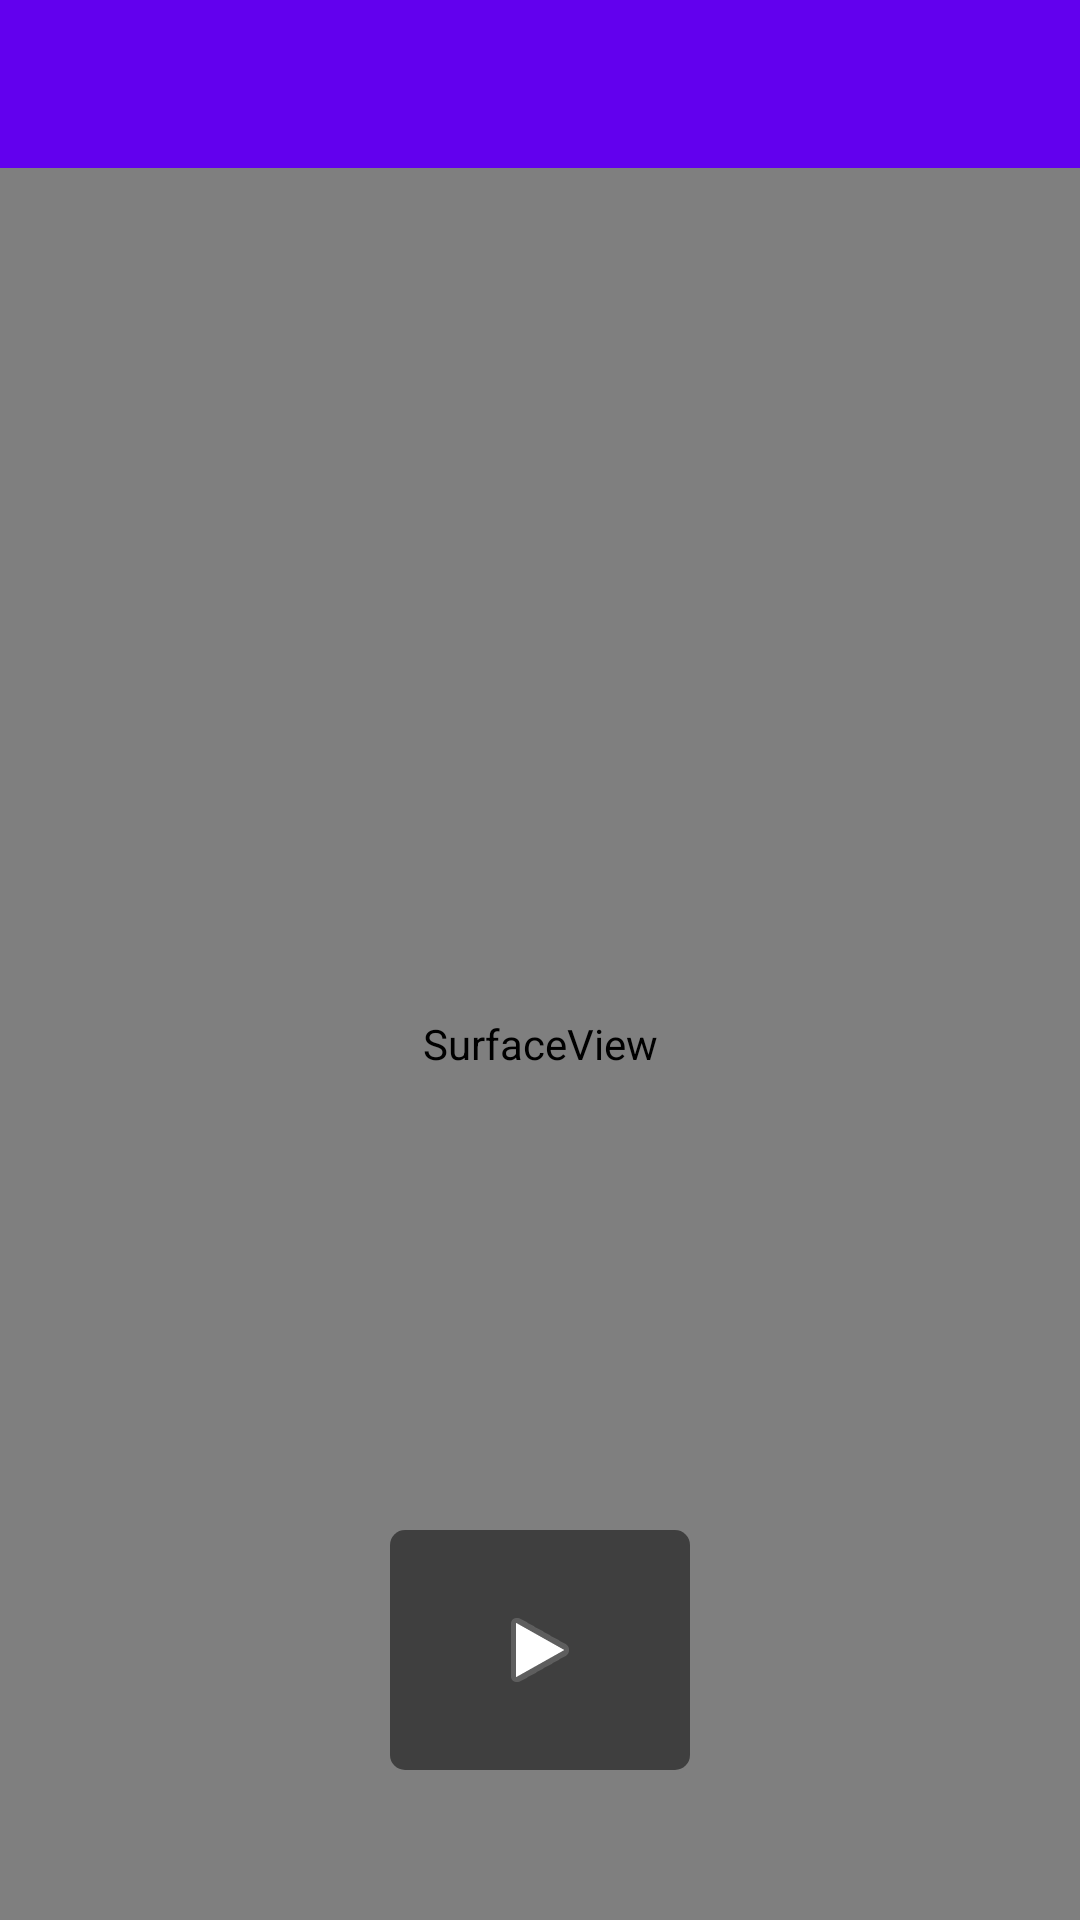

Icon click points for this 1080x1920 phone screenshot, format [x,y]:
play: [540,1650]
